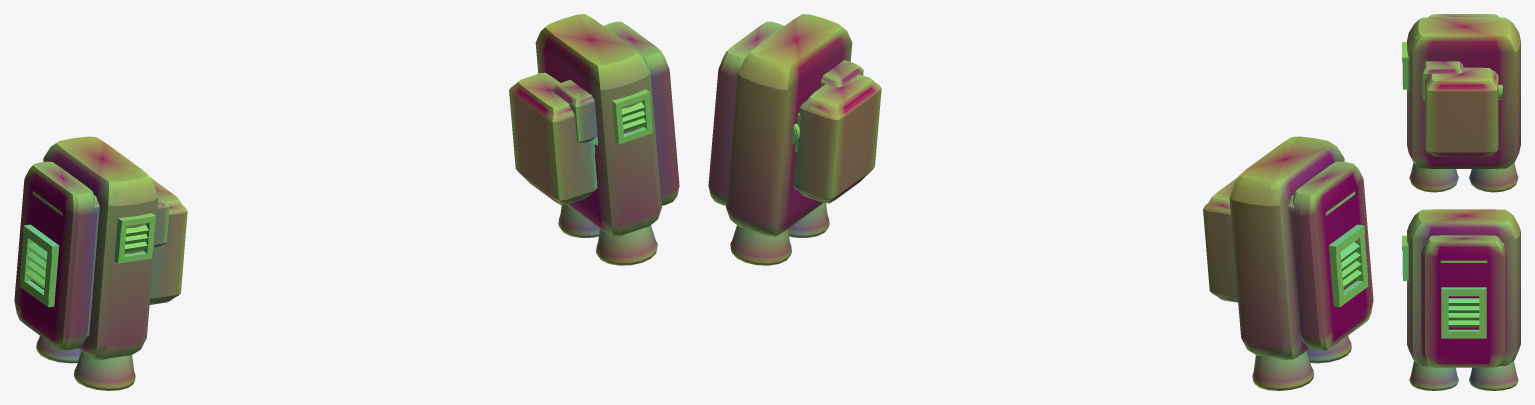
Rendered from llm_gen_leg_thrusters_116_d83eb4.glb.
The picture shows the model from 3 angles, left to right: view 1: azimuth 30°, elevation 25°; view 2: azimuth 150°, elevation 25°; view 3: azimuth 270°, elevation 25°; orthographic projection. The views are drawn at different scales.
Visible parts, largest first — view 1: greave_pylon_0_cobalt_anodized_r, greave_pylon_0_cobalt_anodized_l, lateral_binder_shroud_2_wing_white_l, adapter_calf_clamp_r, lateral_binder_shroud_2_wing_white_r, adapter_calf_clamp_l, ankle_vector_bell_b_7_vernier_bell_vernier_l, ankle_vector_bell_b_7_vernier_bell_vernier_r, adapter_sub_binder_side_vent_3_dark_l, adapter_leg_knee_mount_dark_8_adapter_dark_r, adapter_sub_greave_intake_grille_5_dark_r, adapter_sub_greave_intake_grille_5_dark_l (+4 smaller); view 2: greave_pylon_0_cobalt_anodized_r, greave_pylon_0_cobalt_anodized_l, lateral_binder_shroud_2_wing_white_l, adapter_calf_clamp_r, lateral_binder_shroud_2_wing_white_r, adapter_calf_clamp_l, ankle_vector_bell_a_6_vernier_bell_vernier_l, ankle_vector_bell_a_6_vernier_bell_vernier_r, adapter_sub_binder_side_vent_3_dark_l, ankle_vector_bell_b_7_vernier_bell_vernier_r, adapter_leg_knee_mount_dark_8_adapter_dark_r, binder_side_vent_3_gold_l (+1 smaller); view 3: greave_pylon_0_cobalt_anodized_l, lateral_binder_shroud_2_wing_white_r, greave_pylon_0_cobalt_anodized_r, adapter_calf_clamp_l, adapter_sub_binder_side_vent_3_dark_r, ankle_vector_bell_a_6_vernier_bell_vernier_r, ankle_vector_bell_b_7_vernier_bell_vernier_r, ankle_vector_bell_a_6_vernier_bell_vernier_l, ankle_vector_bell_b_7_vernier_bell_vernier_l, binder_side_vent_3_gold_r, adapter_leg_knee_mount_dark_8_adapter_dark_l, adapter_sub_greave_intake_grille_5_dark_l (+3 smaller).
Boxes of the visible parts, x1,y1,x2,y2 form: greave_pylon_0_cobalt_anodized_r: (535, 14, 661, 236); greave_pylon_0_cobalt_anodized_l: (43, 136, 158, 359); lateral_binder_shroud_2_wing_white_l: (14, 161, 97, 350); adapter_calf_clamp_r: (509, 72, 597, 205); lateral_binder_shroud_2_wing_white_r: (604, 21, 679, 205); adapter_calf_clamp_l: (149, 177, 187, 304); ankle_vector_bell_b_7_vernier_bell_vernier_l: (73, 351, 135, 390); ankle_vector_bell_b_7_vernier_bell_vernier_r: (596, 225, 657, 265); adapter_sub_binder_side_vent_3_dark_l: (19, 224, 59, 307); adapter_leg_knee_mount_dark_8_adapter_dark_r: (551, 79, 597, 143); adapter_sub_greave_intake_grille_5_dark_r: (611, 89, 652, 144); adapter_sub_greave_intake_grille_5_dark_l: (114, 213, 155, 263); greave_pylon_0_cobalt_anodized_r: (726, 14, 852, 236); greave_pylon_0_cobalt_anodized_l: (1229, 136, 1344, 359); lateral_binder_shroud_2_wing_white_l: (1290, 161, 1373, 350); adapter_calf_clamp_r: (793, 74, 881, 203); lateral_binder_shroud_2_wing_white_r: (708, 21, 783, 205); adapter_calf_clamp_l: (1203, 177, 1238, 302); ankle_vector_bell_a_6_vernier_bell_vernier_l: (1252, 351, 1314, 390); ankle_vector_bell_a_6_vernier_bell_vernier_r: (730, 225, 791, 265); adapter_sub_binder_side_vent_3_dark_l: (1328, 224, 1368, 307); ankle_vector_bell_b_7_vernier_bell_vernier_r: (788, 203, 829, 237); adapter_leg_knee_mount_dark_8_adapter_dark_r: (820, 60, 863, 87); binder_side_vent_3_gold_l: (1340, 242, 1361, 288); greave_pylon_0_cobalt_anodized_l: (1407, 17, 1520, 168); lateral_binder_shroud_2_wing_white_r: (1421, 235, 1506, 367); greave_pylon_0_cobalt_anodized_r: (1407, 209, 1520, 365); adapter_calf_clamp_l: (1425, 67, 1498, 156); adapter_sub_binder_side_vent_3_dark_r: (1441, 287, 1486, 338); ankle_vector_bell_a_6_vernier_bell_vernier_r: (1469, 361, 1518, 390); ankle_vector_bell_b_7_vernier_bell_vernier_r: (1409, 361, 1458, 390); ankle_vector_bell_a_6_vernier_bell_vernier_l: (1469, 163, 1518, 192); ankle_vector_bell_b_7_vernier_bell_vernier_l: (1409, 163, 1458, 192); binder_side_vent_3_gold_r: (1448, 298, 1479, 327); adapter_leg_knee_mount_dark_8_adapter_dark_l: (1422, 61, 1463, 101); adapter_sub_greave_intake_grille_5_dark_l: (1402, 42, 1408, 89).
Size of the model in its own units: 85.53 by 26.95 by 17.74.
